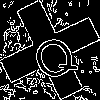Q: (25, 25, 81, 86)
